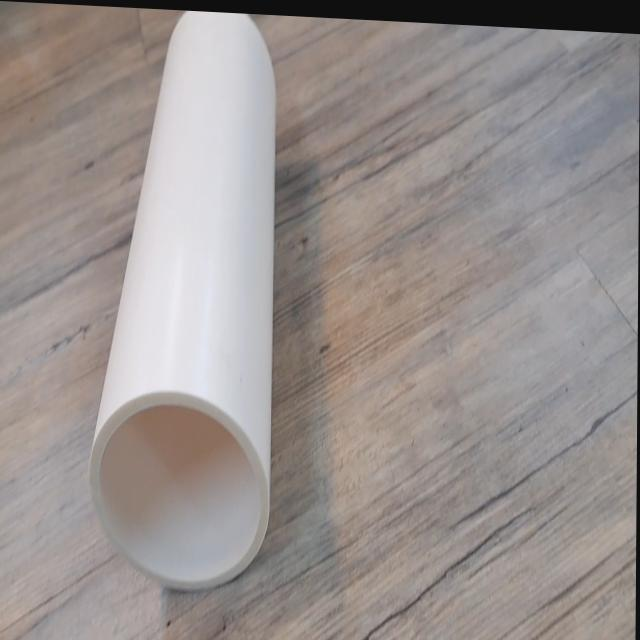CORAL: (80, 4, 287, 605)
